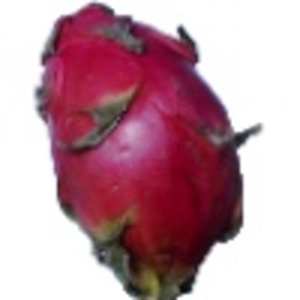pitaia: (33, 1, 261, 300)
